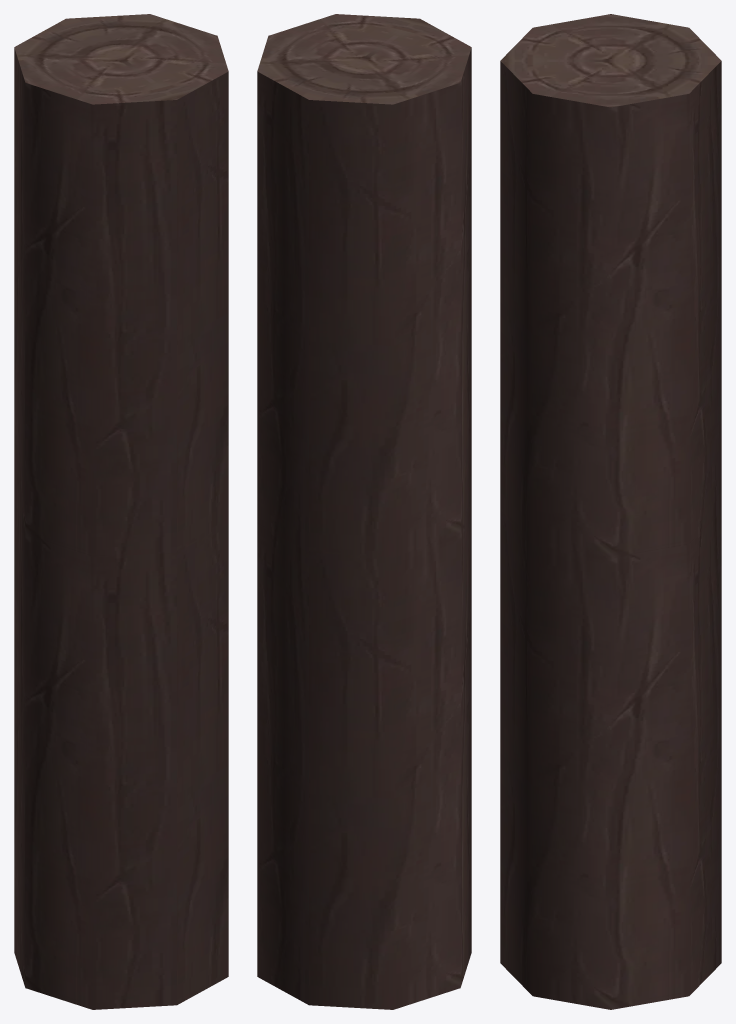
The picture shows the model from 3 angles, left to right: view 1: azimuth 30°, elevation 25°; view 2: azimuth 150°, elevation 25°; view 3: azimuth 270°, elevation 25°; orthographic projection.
Bounding box in the file's own units: 0.4444 × 2 × 0.4444.
1 material, 1 textured.
